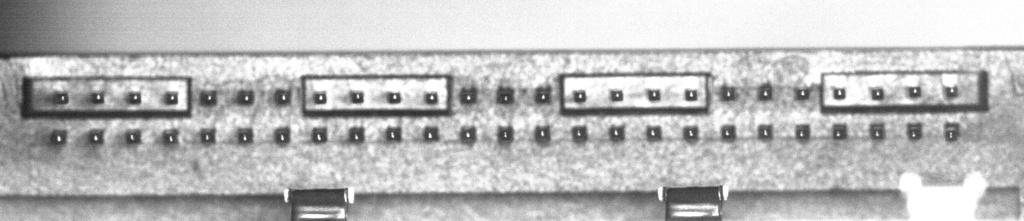pin_ok: (496, 85, 515, 104), (459, 86, 477, 104), (944, 122, 961, 141), (49, 128, 68, 145), (459, 126, 477, 143), (534, 86, 552, 103), (273, 88, 291, 105), (869, 123, 886, 140), (906, 123, 923, 140), (831, 123, 848, 140), (534, 125, 551, 142), (720, 85, 738, 101), (199, 89, 217, 105), (571, 125, 588, 141), (645, 125, 662, 141), (497, 125, 514, 141), (274, 127, 290, 144), (348, 126, 364, 142), (609, 125, 625, 141), (795, 124, 811, 140), (757, 124, 773, 140), (720, 124, 736, 140), (162, 129, 179, 144), (237, 89, 254, 104), (311, 127, 327, 142), (683, 125, 699, 140), (385, 126, 401, 141), (200, 128, 216, 143), (758, 84, 773, 100), (237, 128, 253, 143), (423, 126, 439, 141), (125, 129, 141, 144), (87, 129, 103, 144), (943, 84, 959, 98), (795, 86, 811, 100), (163, 91, 179, 105), (870, 86, 885, 100), (572, 89, 587, 103), (127, 90, 141, 104), (609, 88, 624, 101), (646, 88, 661, 101), (684, 88, 699, 101), (831, 86, 846, 99), (907, 85, 922, 98), (54, 91, 69, 104), (387, 91, 401, 104), (350, 90, 364, 103), (313, 91, 327, 104), (425, 91, 439, 104), (90, 91, 104, 104)
